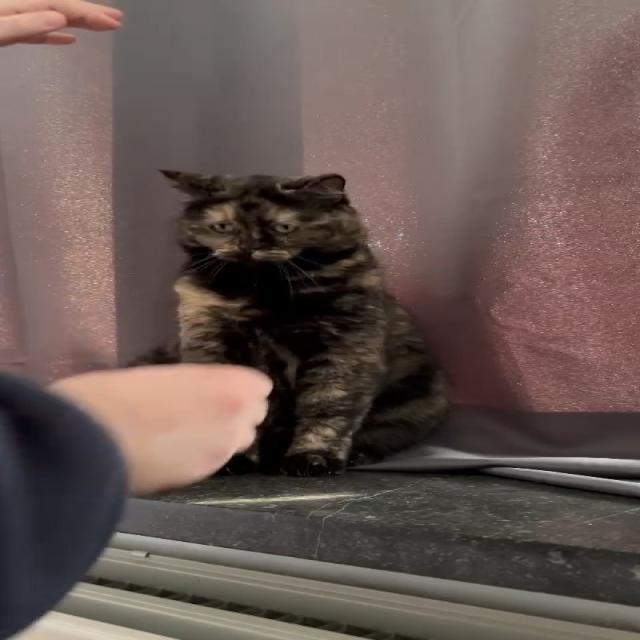authorized: (137, 168, 451, 477)
